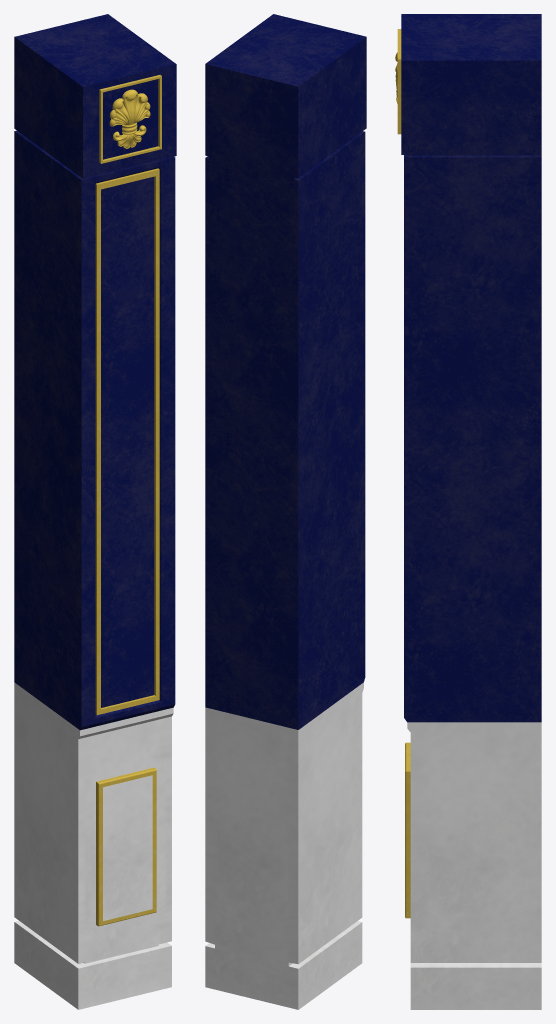
Rendered from pillar_main_dining_room_with_texture.fbx.
3 renders of one model, left to right at view 1: azimuth 30°, elevation 25°; view 2: azimuth 150°, elevation 25°; view 3: azimuth 270°, elevation 25°, orthographic. The views are drawn at different scales.
Parts seen in each view (by area): view 1: main_pillar_dining_room, decoration_pillar_dining_room; view 2: main_pillar_dining_room; view 3: main_pillar_dining_room.
Boxes of the visible parts, x1,y1,x2,y2 form: main_pillar_dining_room: (14,14,176,1009); decoration_pillar_dining_room: (109,89,150,148); main_pillar_dining_room: (205,14,366,1009); main_pillar_dining_room: (397,14,541,1009).
Size of the model in its own units: 18.01 by 170 by 23.82.
